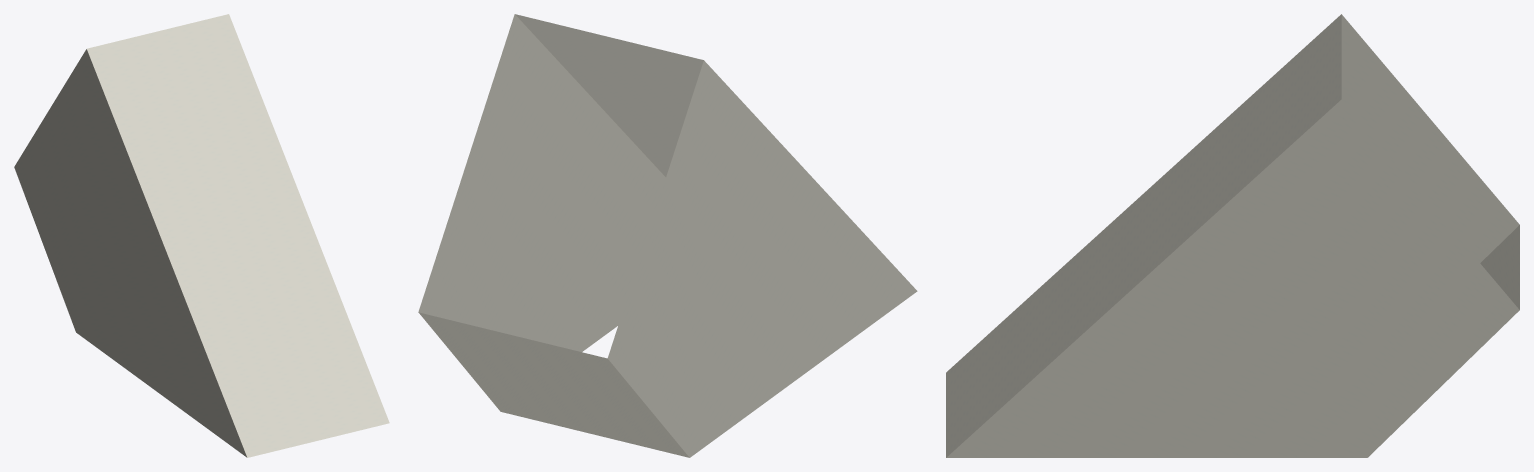
File: window_06_sunbeam.fbx
The picture shows the model from 3 angles, left to right: view 1: azimuth 30°, elevation 25°; view 2: azimuth 150°, elevation 25°; view 3: azimuth 270°, elevation 25°; orthographic projection. The views are drawn at different scales.
Parts seen in each view (by area): view 1: mesh_0; view 2: mesh_0; view 3: mesh_0.
Boxes of the visible parts, left/top/right/bottom form: mesh_0: left=14, top=14, right=389, bottom=457; mesh_0: left=418, top=14, right=917, bottom=457; mesh_0: left=946, top=14, right=1519, bottom=457.
Size of the model in its own units: 95.65 by 187 by 271.
1 material, 1 textured.
